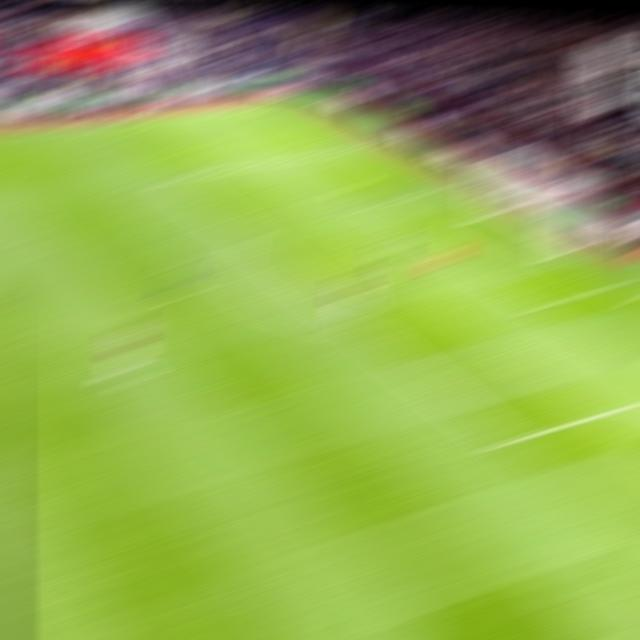bigarea_bottom_inner: (489, 435, 521, 448)
bigarea_top_inner: (157, 174, 185, 182)
bigarea_top_outter: (347, 147, 370, 149)
bottom_arc_area_intersection: (351, 326, 377, 333)
corner: (265, 103, 289, 104)
smallarea_bottom_inner: (526, 297, 556, 309)
smallarea_bottom_outter: (598, 278, 628, 289)
smallarea_top_inner: (361, 202, 388, 206)
smallarea_top_outter: (422, 189, 450, 193)
top_arc_area_intersection: (234, 236, 260, 240)
